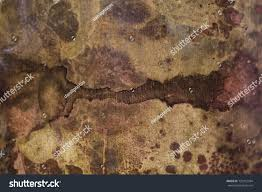rust: (7, 52, 262, 124), (43, 5, 84, 43), (205, 6, 245, 38), (19, 154, 64, 175), (139, 13, 171, 41), (215, 143, 244, 160), (62, 160, 87, 179), (198, 153, 209, 172), (168, 139, 182, 153), (181, 150, 196, 163), (164, 162, 178, 175)
